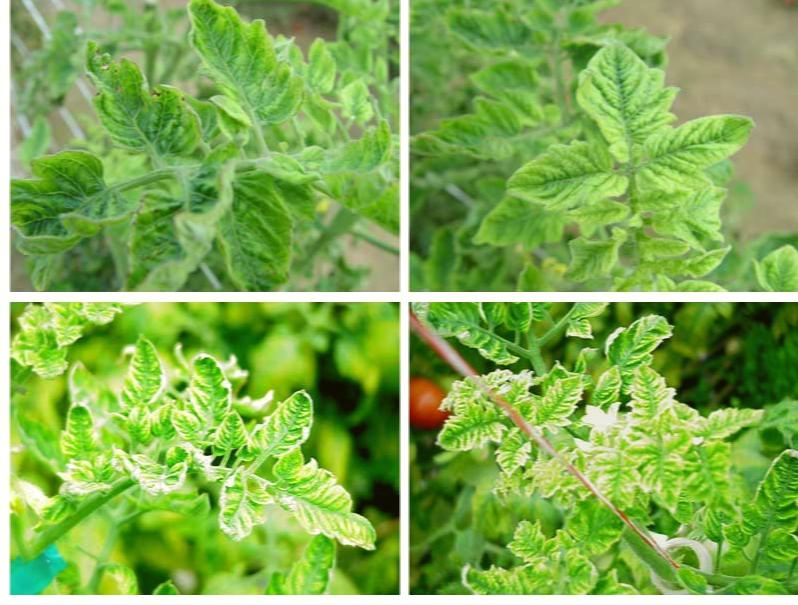Tomato leaf yellow virus: (11, 147, 156, 270), (80, 54, 207, 171), (184, 6, 294, 122), (570, 38, 668, 168), (214, 164, 315, 287), (251, 458, 381, 553), (641, 109, 761, 180), (485, 141, 616, 197), (211, 467, 285, 566), (737, 443, 797, 551), (243, 388, 320, 472), (169, 349, 231, 449), (632, 438, 690, 509), (121, 324, 163, 414), (434, 407, 503, 460), (562, 495, 617, 555), (535, 375, 587, 430), (631, 368, 676, 426), (506, 514, 552, 570), (64, 397, 98, 472), (203, 413, 251, 457), (590, 361, 621, 414), (122, 399, 154, 446)
